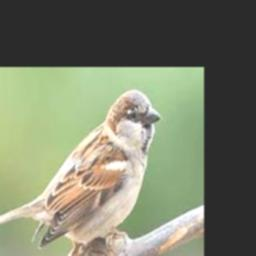Sparrow: (0, 89, 161, 249)
